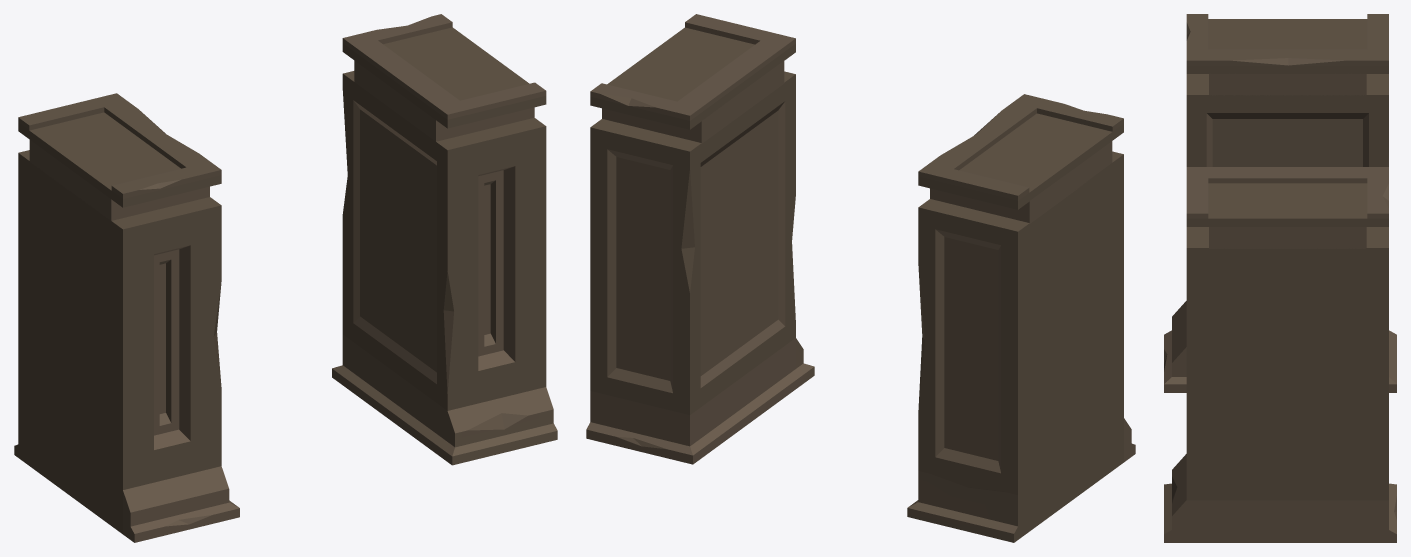
Rendered from SFHW_Reception_Table_004.fbx.
3 renders of one model, left to right at view 1: azimuth 30°, elevation 25°; view 2: azimuth 150°, elevation 25°; view 3: azimuth 270°, elevation 25°, orthographic. The views are drawn at different scales.
Visible parts, largest first — view 1: SFHW_Reception_Table_004; view 2: SFHW_Reception_Table_004; view 3: SFHW_Reception_Table_004.
Boxes of the visible parts, box(x1,y1,x2,y2) form: SFHW_Reception_Table_004: box(14, 14, 557, 542); SFHW_Reception_Table_004: box(586, 14, 1135, 542); SFHW_Reception_Table_004: box(1164, 14, 1396, 542).
Size of the model in its own units: 140 by 108 by 68.94.
